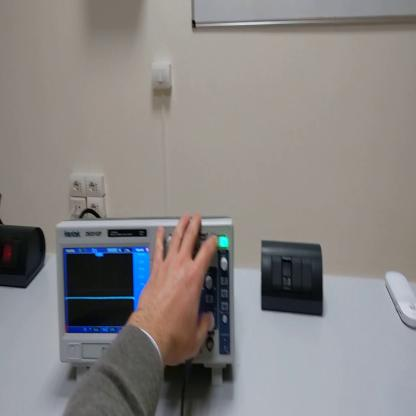hand: (134, 213, 219, 366)
oscilloscope: (53, 209, 238, 380)
socket: (2, 224, 48, 292)
